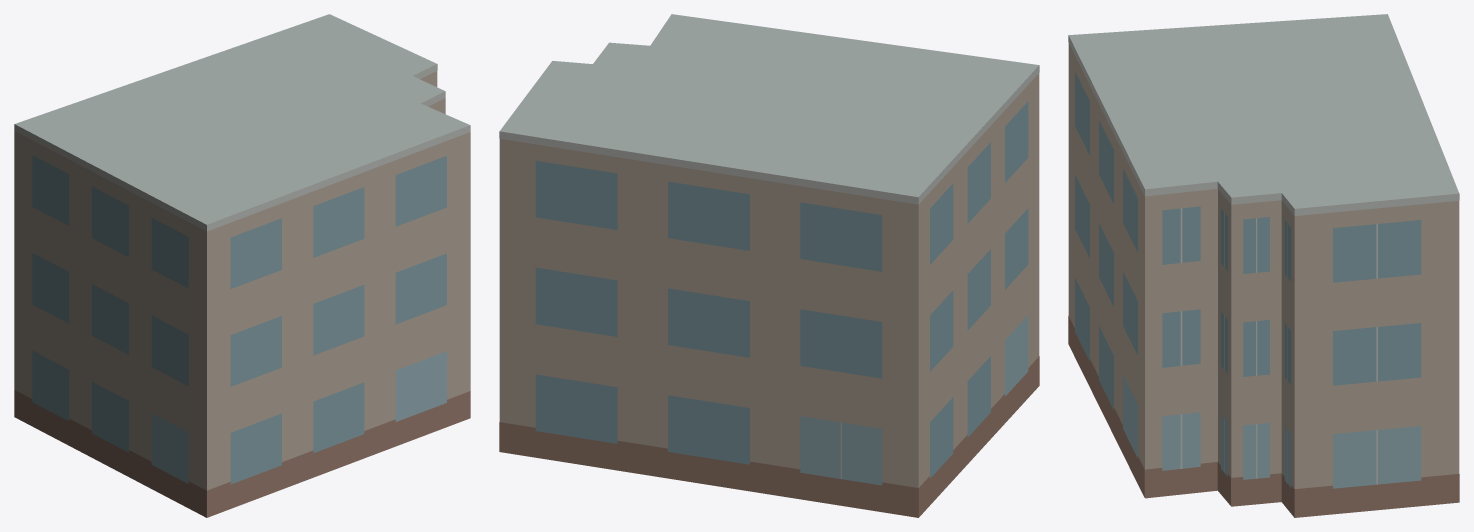
The model's file is survey-upis-32955259.glb.
The picture shows the model from 3 angles, left to right: view 1: azimuth 30°, elevation 25°; view 2: azimuth 150°, elevation 25°; view 3: azimuth 270°, elevation 25°; orthographic projection. The views are drawn at different scales.
Visible parts, largest first — view 1: survey-upis-32955259.tmp; view 2: survey-upis-32955259.tmp; view 3: survey-upis-32955259.tmp.
Boxes of the visible parts, box(x1,y1,x2,y2) form: survey-upis-32955259.tmp: box(14, 14, 470, 517); survey-upis-32955259.tmp: box(499, 14, 1039, 517); survey-upis-32955259.tmp: box(1068, 14, 1459, 517).
Size of the model in its own units: 14.35 by 10.6 by 12.17.
